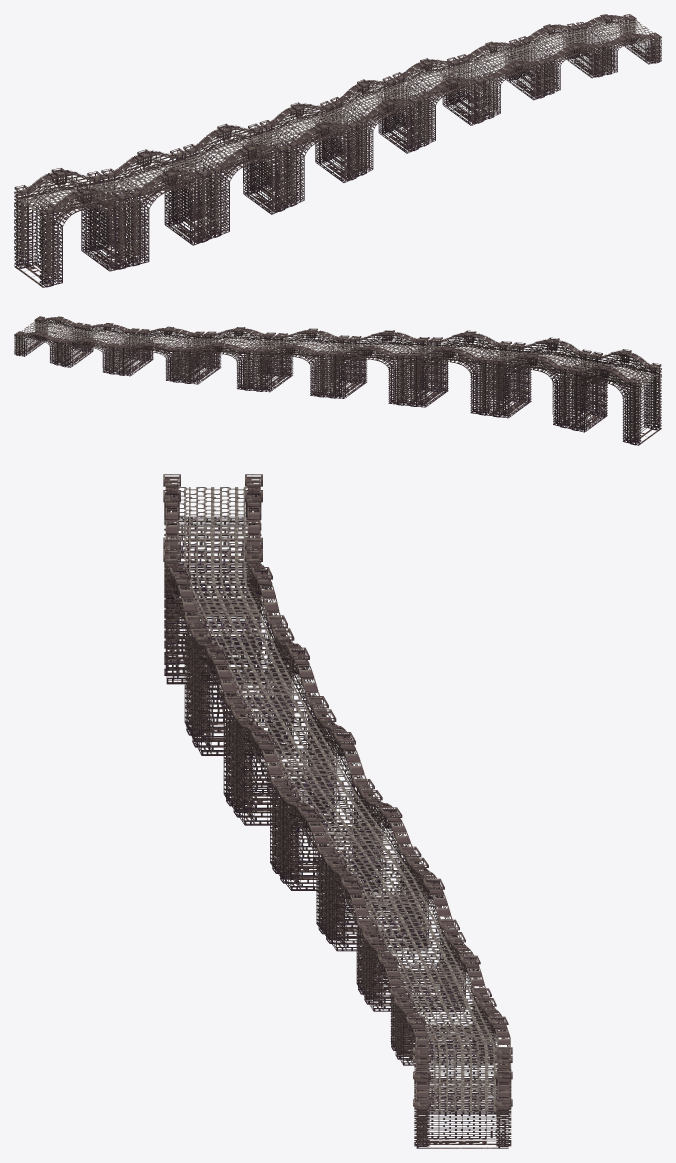
Rendered from M_BPI_BD_MapLv_T_Sea_M_A_Bridge.FBX.
3 views of the same model, one above another, from view 1: azimuth 30°, elevation 25°; view 2: azimuth 150°, elevation 25°; view 3: azimuth 270°, elevation 25° (orthographic). The views are drawn at different scales.
Visible parts, largest first — view 1: M_BPI_BD_MapLv_T_Sea_M_A_Bridge; view 2: M_BPI_BD_MapLv_T_Sea_M_A_Bridge; view 3: M_BPI_BD_MapLv_T_Sea_M_A_Bridge.
Part boxes in pixels (bbox=[...]): M_BPI_BD_MapLv_T_Sea_M_A_Bridge: bbox=[14, 14, 661, 287]; M_BPI_BD_MapLv_T_Sea_M_A_Bridge: bbox=[14, 316, 661, 445]; M_BPI_BD_MapLv_T_Sea_M_A_Bridge: bbox=[163, 474, 512, 1148].
Bounding box in the file's own units: 5450 × 652 × 1469.
